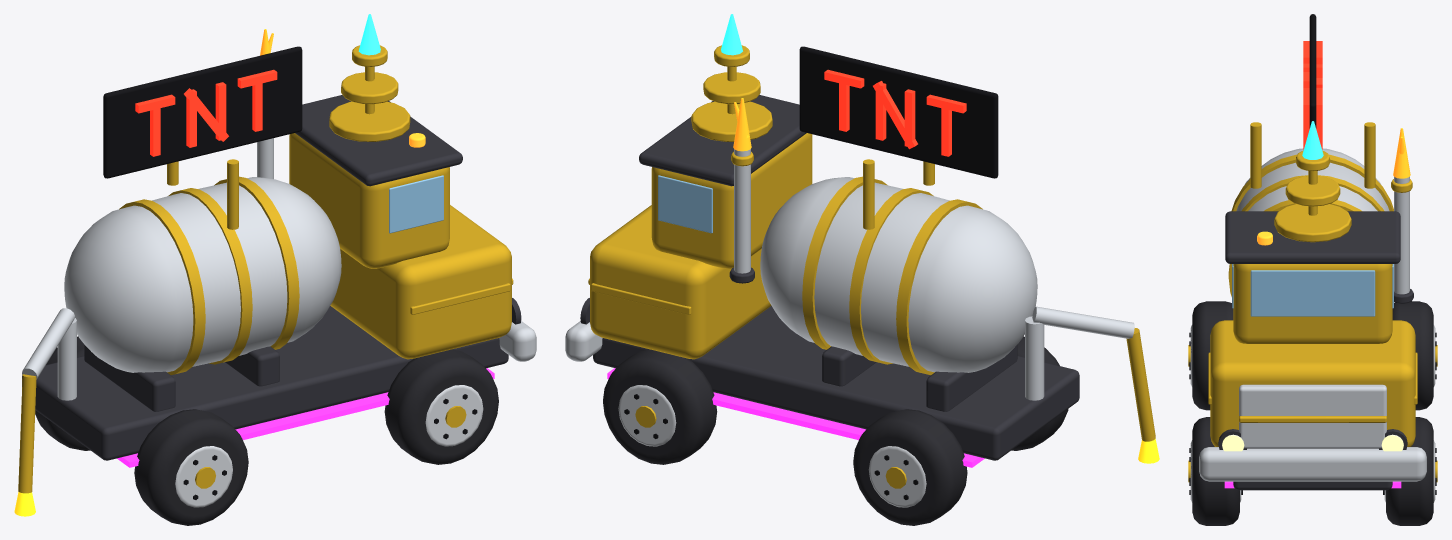
Rendered from vehicle_charging_truck_t3.glb.
The picture shows the model from 3 angles, left to right: view 1: azimuth 30°, elevation 25°; view 2: azimuth 150°, elevation 25°; view 3: azimuth 270°, elevation 25°; orthographic projection. The views are drawn at different scales.
Parts seen in each view (by area): view 1: Tank, Chassis, Hood, Sign.Back, Cab.Shell, WheelRR.Tyre, WheelFR.Tyre, Cab.Roof, Fountain.Tier0, Tank.Band, Cab.SideWindow, Tank.Band.002 (+17 smaller); view 2: Tank, Chassis, Hood, Sign.Back, Cab.Shell, WheelRL.Tyre, WheelFL.Tyre, Cab.Roof, Tank.Band, Cab.SideWindow.001, Tank.Band.002, Tank.Band.001 (+15 smaller); view 3: Hood, Grille, Bumper, Cab.Shell, Cab.Roof, Cab.Windshield, Tank, WheelFL.Tyre, WheelFR.Tyre, Fountain.Tier0, WheelRR.Tyre, WheelRL.Tyre (+15 smaller).
Part boxes in pixels (<box>): Tank: <box>64,177,341,372</box>; Chassis: <box>22,306,508,460</box>; Hood: <box>330,205,511,359</box>; Sign.Back: <box>103,46,302,178</box>; Cab.Shell: <box>289,133,449,268</box>; WheelRR.Tyre: <box>134,409,248,525</box>; WheelFR.Tyre: <box>384,349,498,464</box>; Cab.Roof: <box>295,95,462,186</box>; Fountain.Tier0: <box>329,101,410,141</box>; Tank.Band: <box>119,199,205,375</box>; Cab.SideWindow: <box>389,175,443,233</box>; Tank.Band.002: <box>214,176,299,349</box>; Tank: <box>760,177,1037,372</box>; Chassis: <box>593,306,1079,460</box>; Hood: <box>590,205,771,359</box>; Sign.Back: <box>799,46,998,178</box>; Cab.Shell: <box>651,133,812,268</box>; WheelRL.Tyre: <box>853,409,967,525</box>; WheelFL.Tyre: <box>603,349,717,464</box>; Cab.Roof: <box>639,95,806,186</box>; Tank.Band: <box>896,199,982,375</box>; Cab.SideWindow.001: <box>658,175,712,233</box>; Tank.Band.002: <box>802,176,887,349</box>; Tank.Band.001: <box>849,188,933,364</box>; Hood: <box>1210,320,1415,446</box>; Grille: <box>1239,384,1386,448</box>; Bumper: <box>1199,447,1426,481</box>; Cab.Shell: <box>1233,264,1392,343</box>; Cab.Roof: <box>1225,211,1400,263</box>; Cab.Windshield: <box>1250,270,1375,316</box>; Tank: <box>1236,148,1389,211</box>; WheelFL.Tyre: <box>1386,417,1433,525</box>; WheelFR.Tyre: <box>1192,417,1239,525</box>; Fountain.Tier0: <box>1274,204,1351,242</box>; WheelRR.Tyre: <box>1192,301,1233,410</box>; WheelRL.Tyre: <box>1392,301,1433,410</box>.
Bounding box in the file's own units: 4.8 × 3.77 × 2.19.
